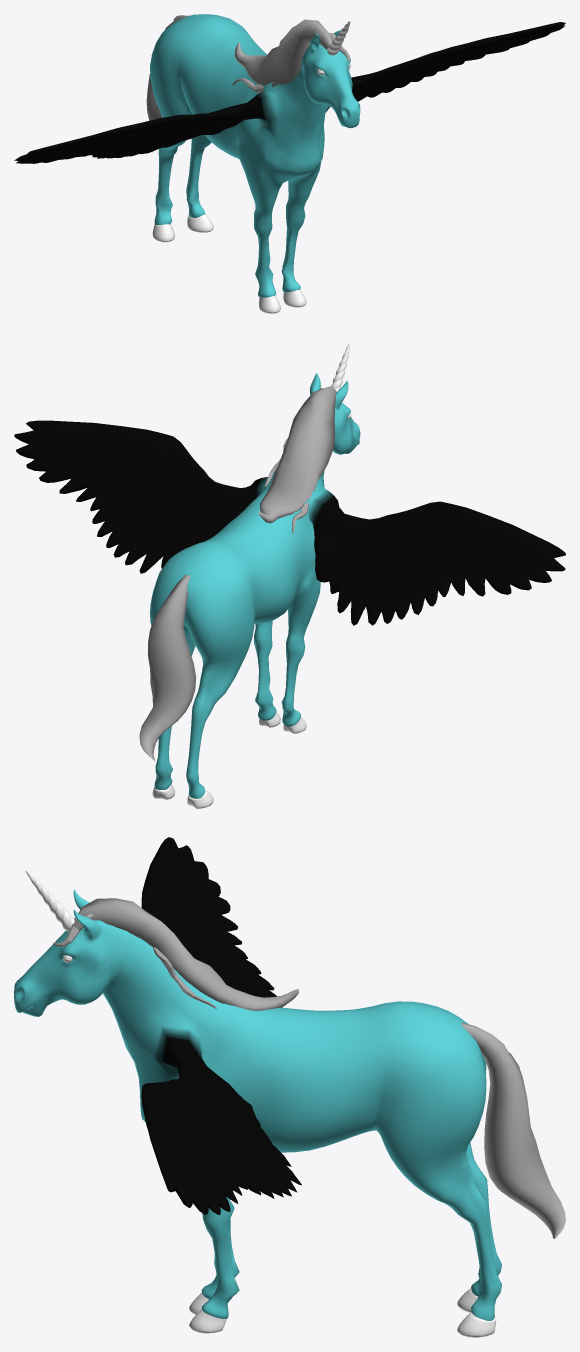
File: uni_v04.fbx
The picture shows the model from 3 angles, top to bottom: view 1: azimuth 30°, elevation 25°; view 2: azimuth 150°, elevation 25°; view 3: azimuth 270°, elevation 25°; orthographic projection. The views are drawn at different scales.
Visible parts, largest first — view 1: uni_body, uni_hair, uni_hoof; view 2: uni_body, uni_hair, uni_hoof; view 3: uni_body, uni_hair, uni_hoof, uni_flyaways, uni_corn.
Part boxes in pixels (box(x1,y1,x2,y2)): uni_body: box(14, 14, 565, 297); uni_hair: box(146, 15, 332, 152); uni_hoof: box(152, 214, 306, 313); uni_body: box(14, 373, 565, 798); uni_hair: box(139, 386, 336, 760); uni_hoof: box(152, 711, 306, 808); uni_body: box(14, 837, 501, 1320); uni_hair: box(74, 898, 565, 1238); uni_hoof: box(189, 1288, 496, 1337); uni_flyaways: box(53, 914, 216, 1008); uni_corn: box(25, 870, 74, 931).
Size of the model in its own units: 19.95 by 11.55 by 12.87.
